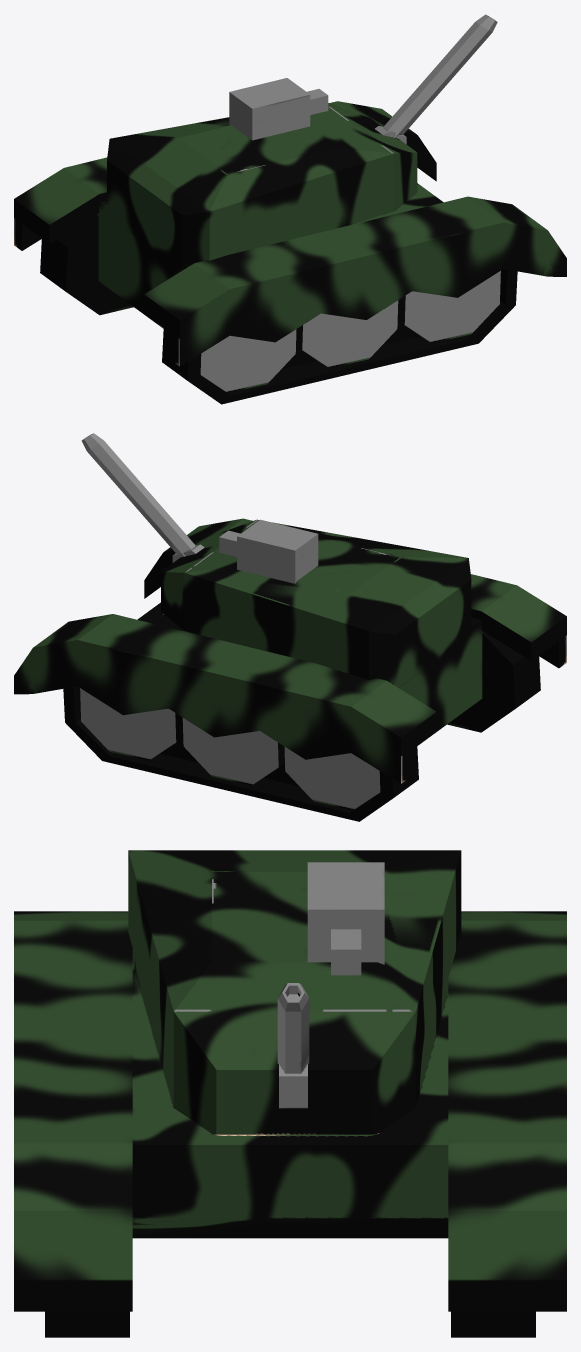
Rendered from TanqueDeGuerra.fbx.
3 views of the same model, one above another, from view 1: azimuth 30°, elevation 25°; view 2: azimuth 150°, elevation 25°; view 3: azimuth 270°, elevation 25° (orthographic). The views are drawn at different scales.
Parts seen in each view (by area): view 1: Tanque; view 2: Tanque; view 3: Tanque.
Part boxes in pixels (x1,y1,x2,y2): Tanque: [14, 14, 566, 404]; Tanque: [14, 433, 566, 821]; Tanque: [14, 850, 566, 1337].
Bounding box in the file's own units: 739 × 447 × 531.
1 material, 1 textured.
